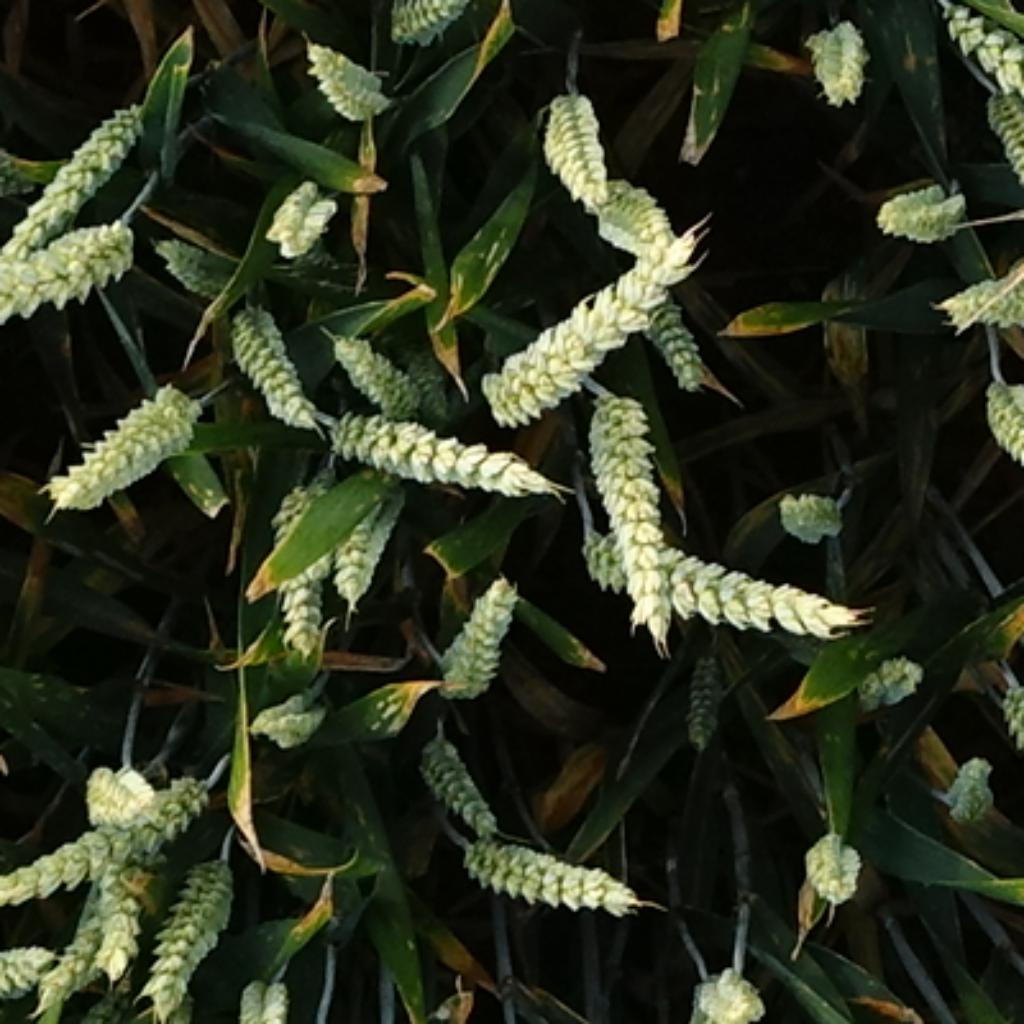0-0: (477, 221, 718, 416), (573, 514, 855, 637), (0, 93, 155, 272), (576, 389, 683, 616), (40, 366, 207, 509), (309, 404, 555, 496), (2, 788, 153, 916), (470, 826, 659, 923), (133, 849, 240, 1018), (74, 765, 212, 883), (944, 0, 1024, 199), (258, 465, 340, 642), (2, 220, 140, 325), (33, 862, 115, 1024), (217, 289, 314, 419), (430, 563, 524, 693), (622, 271, 716, 394), (531, 93, 618, 221), (404, 719, 501, 829), (980, 665, 1024, 898), (71, 750, 181, 842), (325, 317, 435, 407), (596, 168, 675, 284), (299, 25, 396, 117), (325, 491, 407, 596), (936, 253, 1024, 340), (870, 166, 972, 240), (798, 15, 872, 110), (158, 217, 248, 294), (89, 878, 151, 988), (263, 168, 343, 253), (678, 952, 768, 1024), (247, 685, 334, 756), (975, 371, 1024, 496), (797, 826, 868, 911), (678, 642, 737, 744), (975, 76, 1024, 184), (847, 640, 926, 706), (770, 476, 849, 535), (939, 744, 998, 819), (2, 939, 71, 995), (227, 975, 304, 1024), (384, 0, 478, 40), (547, 0, 647, 5)
